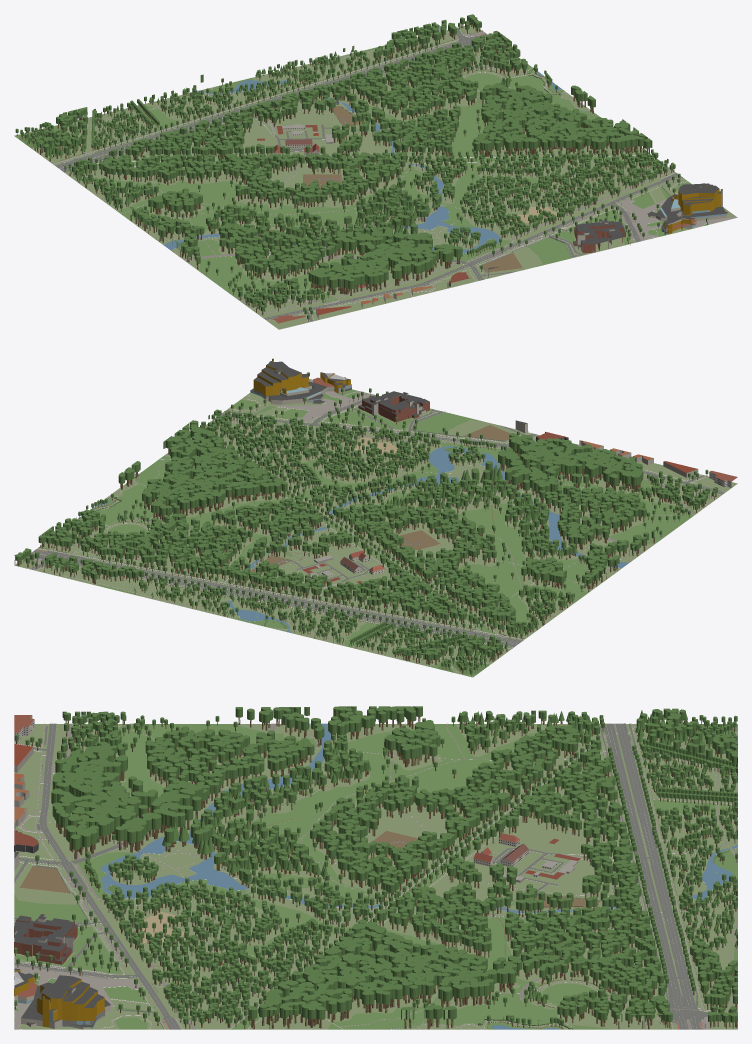
3 views of the same model, one above another, from view 1: azimuth 30°, elevation 25°; view 2: azimuth 150°, elevation 25°; view 3: azimuth 270°, elevation 25° (orthographic). The views are drawn at different scales.
Bounding box in the file's own units: 751 × 37.1 × 751.
Materials: 3 (1 with a texture image).
